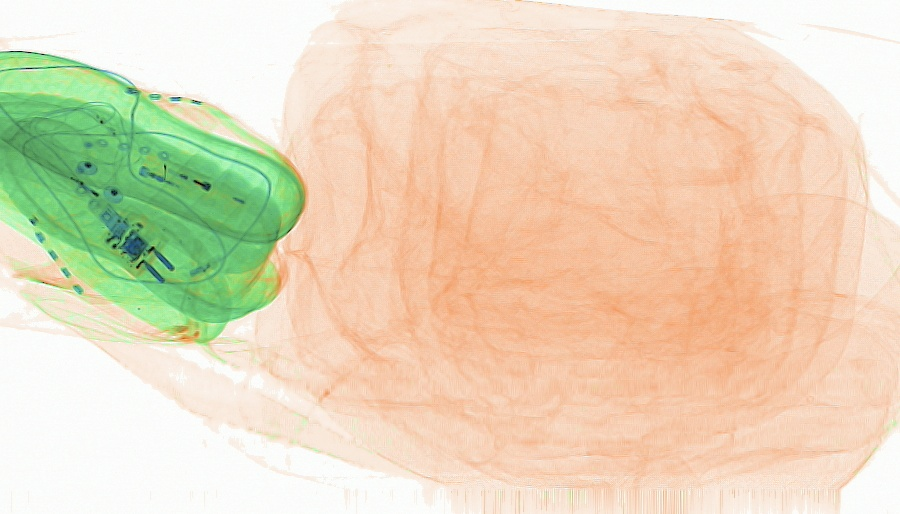lighter: (130, 149, 259, 217)
